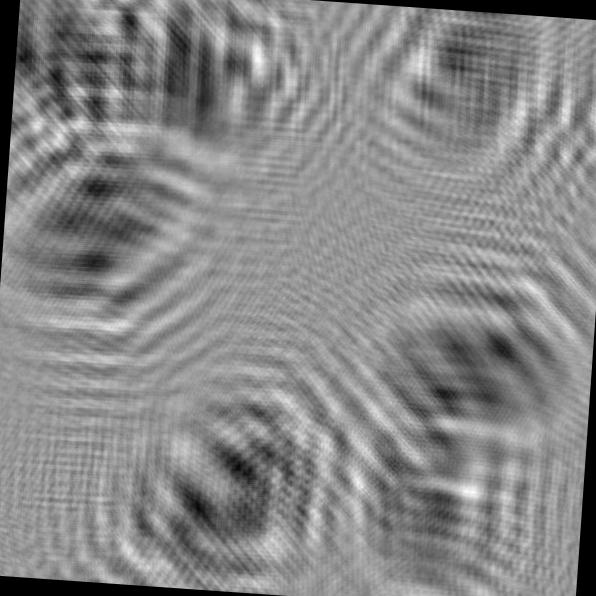K: (86, 0, 311, 191)
L: (295, 373, 569, 596), (335, 3, 580, 208)
M: (81, 334, 376, 596)
N: (317, 224, 596, 503), (0, 114, 231, 341), (8, 0, 187, 186)
